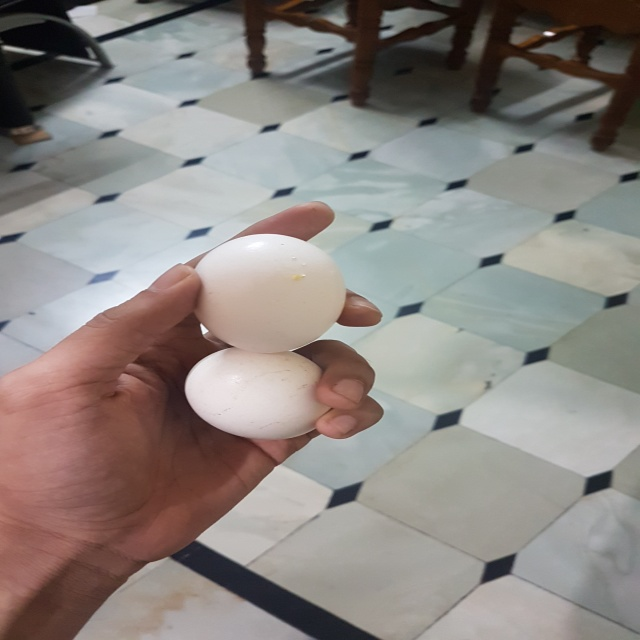eggs: (185, 229, 354, 352), (183, 344, 338, 443)
